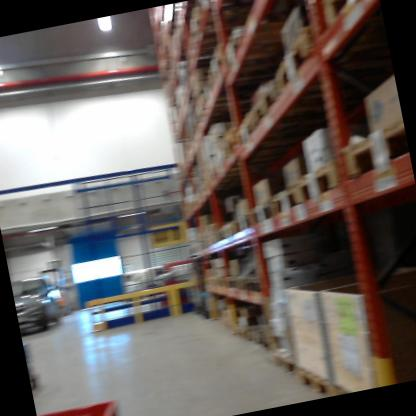pallet: (221, 1, 316, 78), (229, 94, 340, 150), (336, 114, 413, 191), (258, 16, 326, 102), (292, 150, 351, 205), (194, 38, 240, 100), (246, 77, 287, 132), (315, 0, 380, 33), (291, 355, 334, 400), (266, 177, 308, 222), (246, 192, 281, 231), (270, 344, 293, 379), (229, 208, 255, 236), (257, 325, 281, 352)
small_load_carrier: (35, 387, 127, 416)
